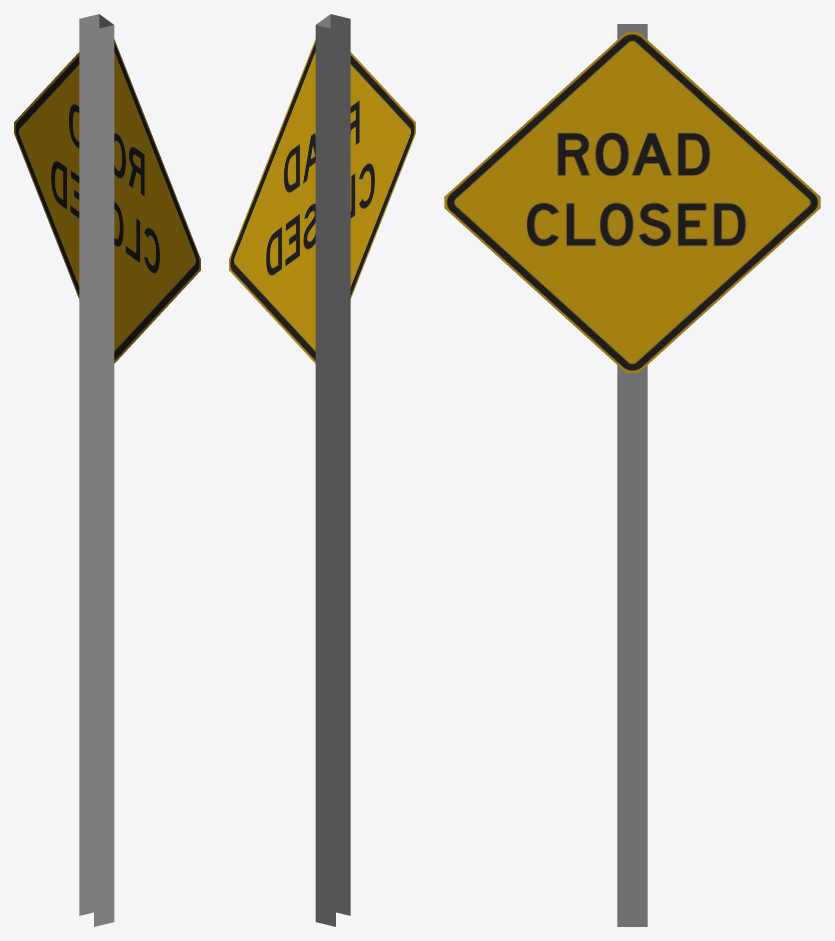
Rendered from sign_roadclosed.fbx.
3 renders of one model, left to right at view 1: azimuth 30°, elevation 25°; view 2: azimuth 150°, elevation 25°; view 3: azimuth 270°, elevation 25°, orthographic.
Visible parts, largest first — view 1: Sign_Diamond.002; view 2: Sign_Diamond.002; view 3: Sign_Diamond.002.
Boxes of the visible parts, <box> form: Sign_Diamond.002: <box>14,14,200,926</box>; Sign_Diamond.002: <box>229,14,415,926</box>; Sign_Diamond.002: <box>444,24,820,926</box>.
Bounding box in the file's own units: 5.18 × 213 × 80.53.
2 materials, 1 textured.
